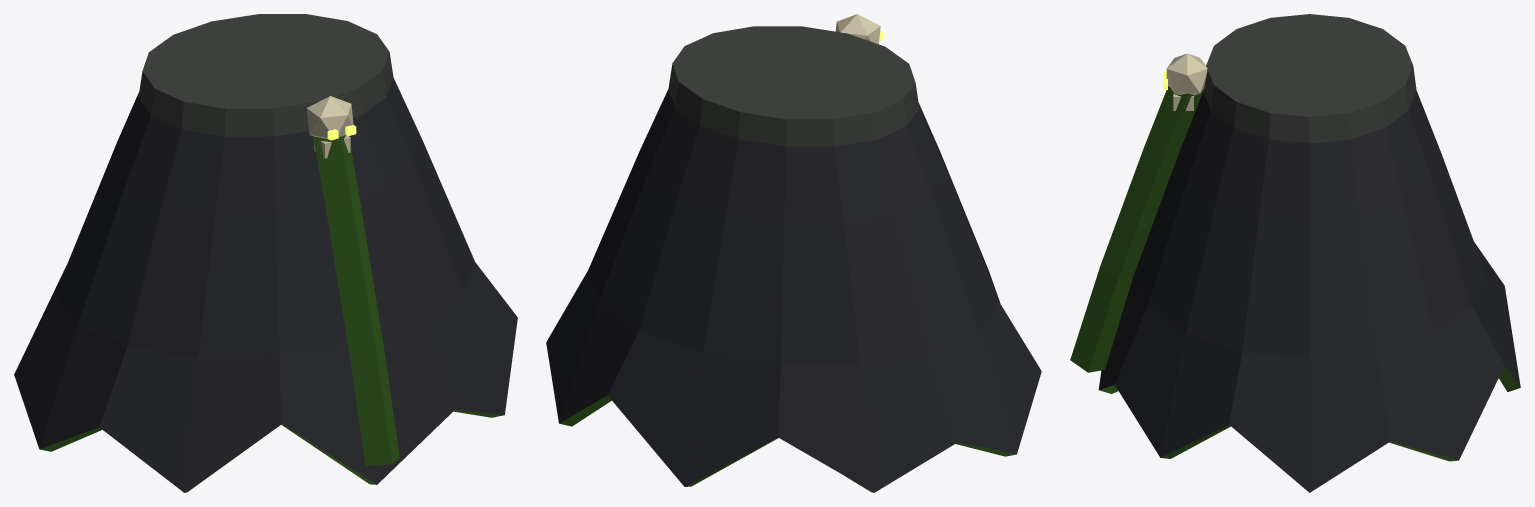
The model's file is Boss_Mage_Robe.fbx.
The picture shows the model from 3 angles, left to right: view 1: azimuth 30°, elevation 25°; view 2: azimuth 150°, elevation 25°; view 3: azimuth 270°, elevation 25°; orthographic projection. The views are drawn at different scales.
Visible parts, largest first — view 1: Boss_Mage_Robe; view 2: Boss_Mage_Robe; view 3: Boss_Mage_Robe.
Boxes of the visible parts, x1,y1,x2,y2 form: Boss_Mage_Robe: (14, 14, 517, 492); Boss_Mage_Robe: (546, 14, 1041, 492); Boss_Mage_Robe: (1070, 14, 1520, 492).
Bounding box in the file's own units: 1.06 × 0.8027 × 0.9617.
